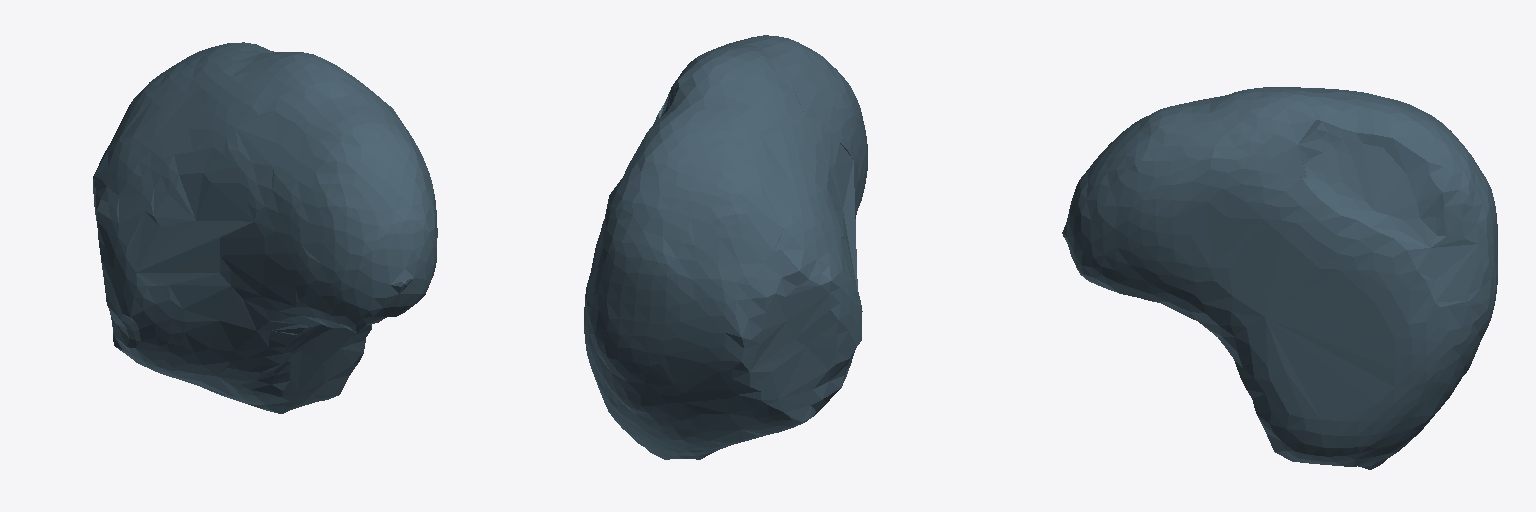
The model's file is Model_10388_LH__Ventromedial_hypothalamic_nucleus_(VMH).obj.
3 renders of one model, left to right at view 1: azimuth 30°, elevation 25°; view 2: azimuth 150°, elevation 25°; view 3: azimuth 270°, elevation 25°, orthographic.
Bounding box in the file's own units: 1.4 × 2.19 × 2.34.